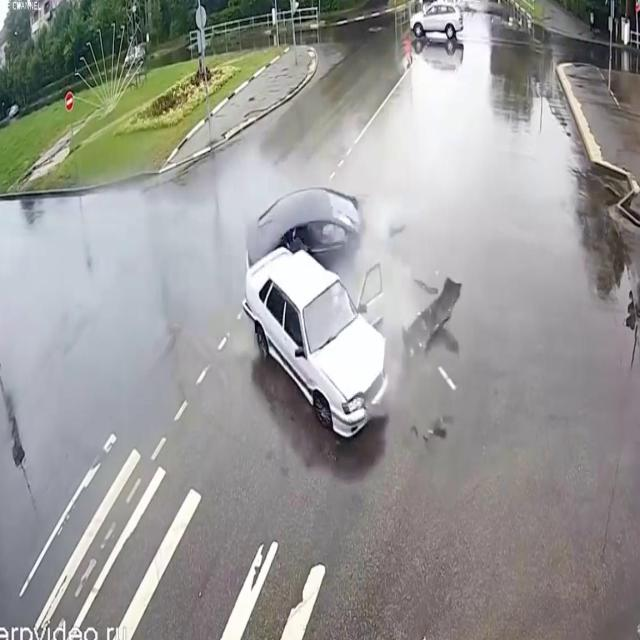non_accident: (239, 168, 469, 468)
